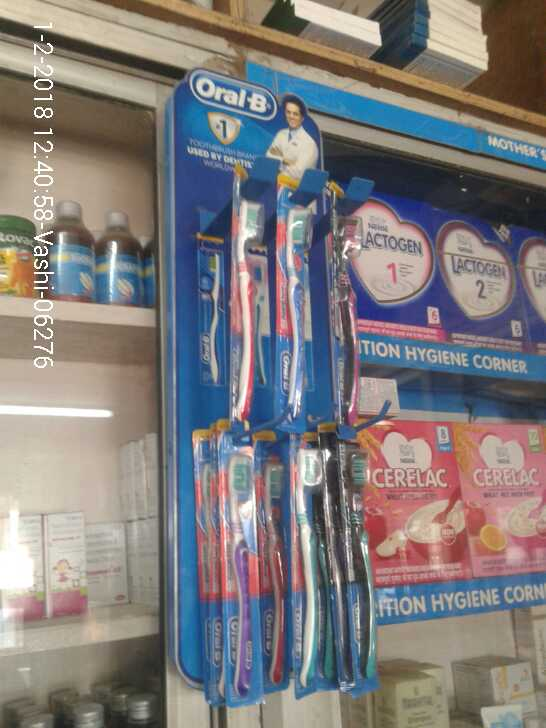oralb: (210, 439, 264, 702), (290, 451, 330, 694), (224, 206, 265, 426), (343, 449, 382, 680), (331, 212, 369, 425), (284, 214, 315, 429)
